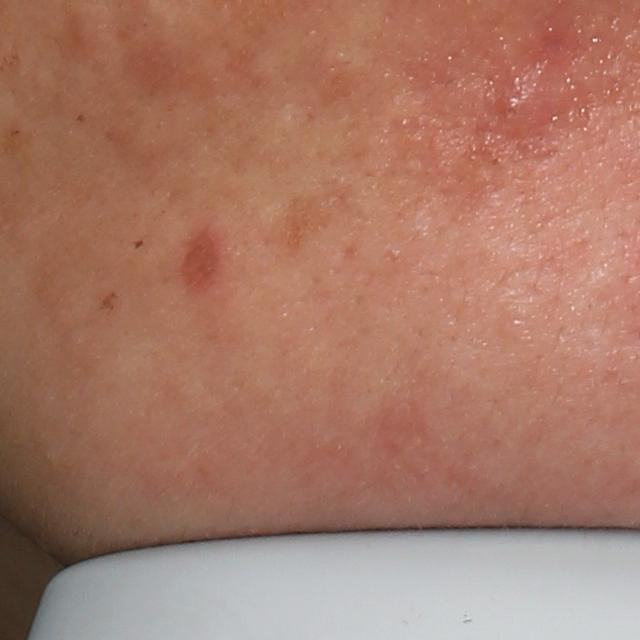papule: (484, 70, 556, 141)
